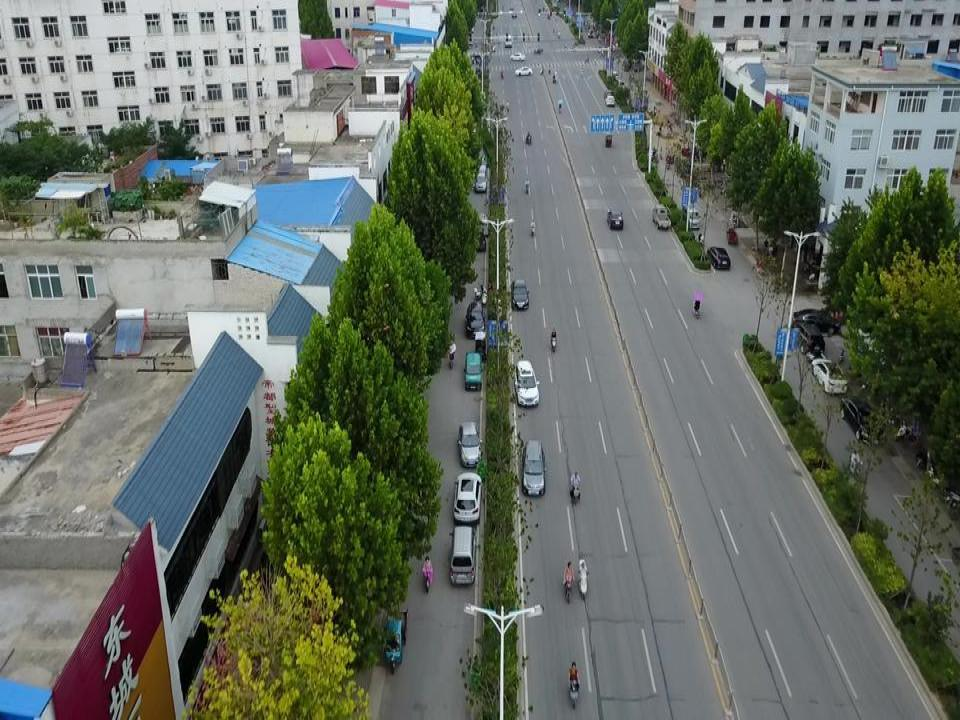car: (839, 395, 885, 448), (810, 354, 848, 395), (452, 473, 481, 524), (792, 306, 840, 334), (511, 361, 540, 407), (788, 320, 825, 356), (523, 440, 546, 496), (457, 420, 483, 467), (465, 301, 486, 340), (510, 278, 529, 310), (706, 246, 731, 270), (605, 212, 627, 227), (473, 233, 486, 251), (475, 172, 487, 191)
truck: (652, 204, 671, 231)
van: (448, 525, 476, 587), (465, 354, 482, 390), (682, 204, 698, 231), (475, 212, 488, 233)
